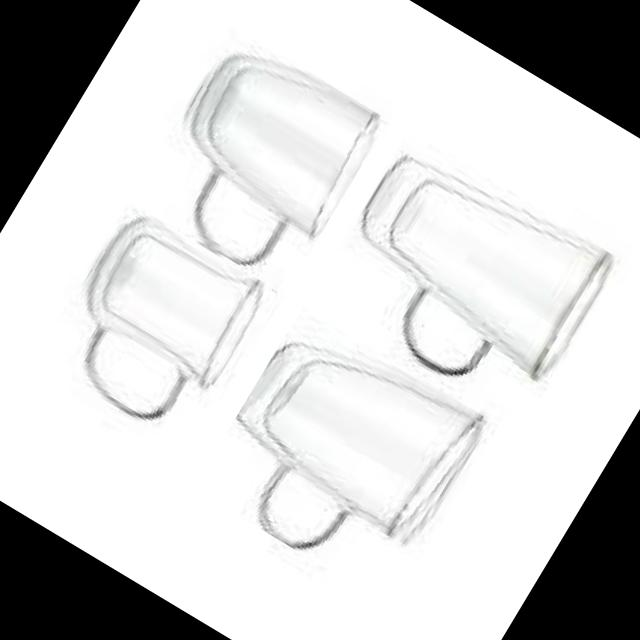Glass: (305, 128, 621, 426), (192, 308, 490, 602), (125, 25, 388, 296), (31, 200, 272, 448)
